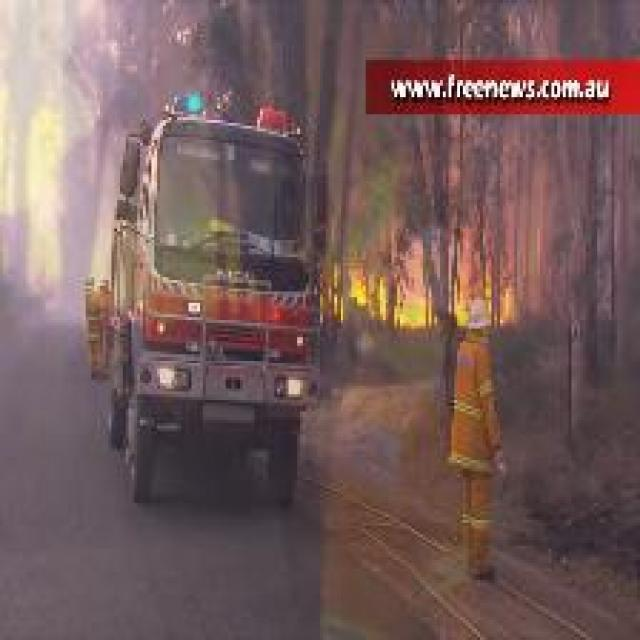Fire: (348, 266, 436, 328), (452, 284, 468, 330)
